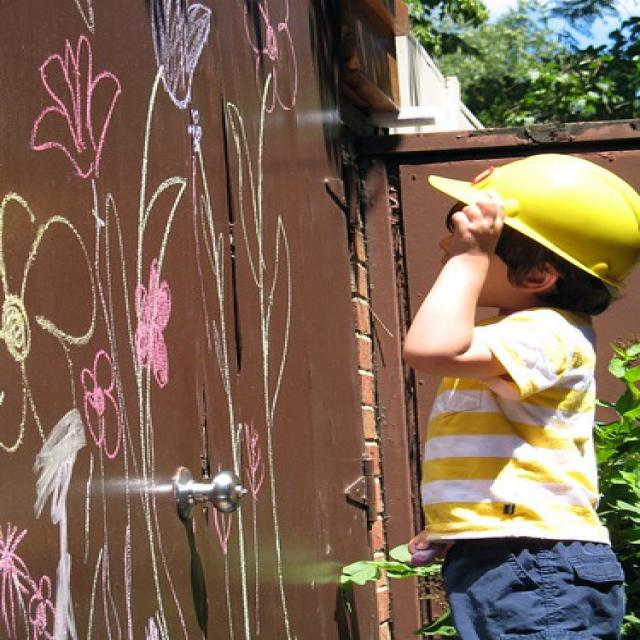Safety-Helmet: (423, 147, 640, 286)
